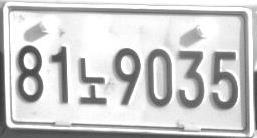0: (145, 48, 172, 107)
1: (49, 46, 75, 104)
3: (177, 50, 204, 108)
5: (210, 51, 239, 110)
8: (16, 44, 44, 103)
9: (113, 47, 141, 105)
노: (79, 57, 107, 105)
